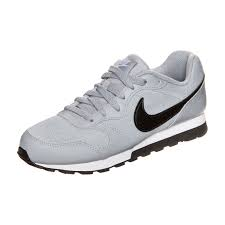nike: (134, 81, 205, 133)
